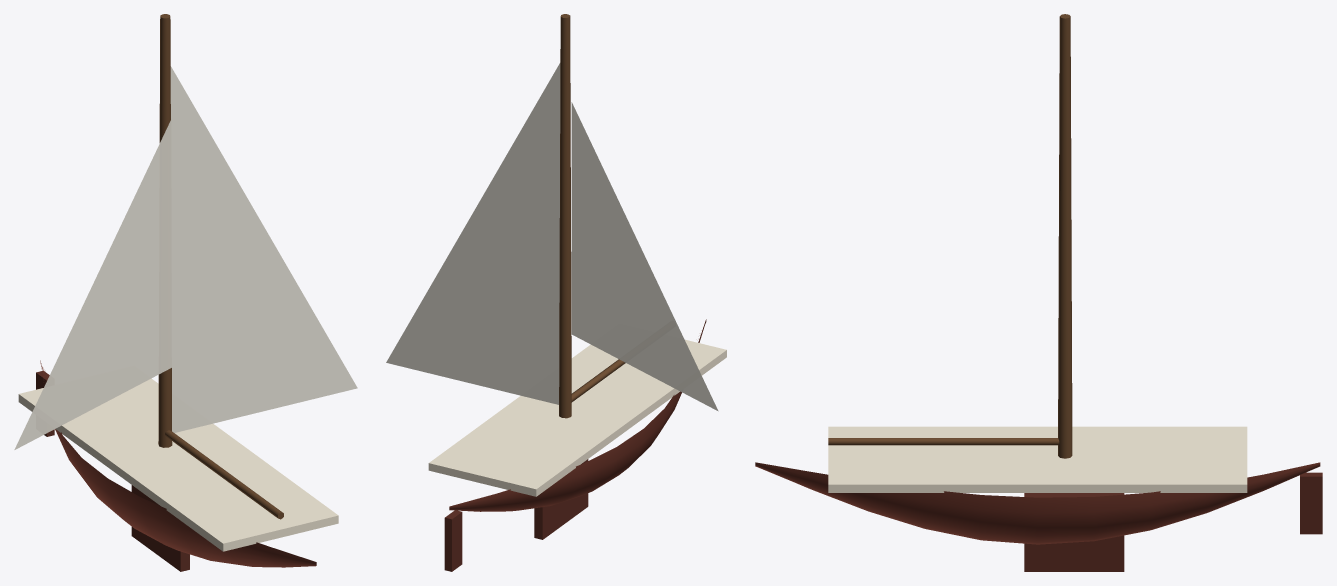
File: sailboat.glb
3 views of the same model, side by side, from view 1: azimuth 30°, elevation 25°; view 2: azimuth 150°, elevation 25°; view 3: azimuth 270°, elevation 25° (orthographic). The views are drawn at different scales.
Parts seen in each view (by area): view 1: mainSail, deck, jibSail, hull, mast, boom, keel; view 2: mainSail, jibSail, deck, hull, mast, keel, rudder, boom; view 3: deck, hull, mast, keel, boom, rudder.
Boxes of the visible parts, left/top/right/bottom form: mainSail: left=170, top=66, right=357, bottom=432; deck: left=18, top=378, right=338, bottom=551; jibSail: left=14, top=118, right=171, bottom=449; hull: left=40, top=360, right=316, bottom=567; mast: left=158, top=14, right=172, bottom=447; boom: left=165, top=430, right=283, bottom=519; keel: left=131, top=485, right=189, bottom=571; mainSail: left=386, top=63, right=560, bottom=404; jibSail: left=571, top=102, right=718, bottom=411; deck: left=428, top=339, right=726, bottom=496; hull: left=449, top=319, right=706, bottom=511; mast: left=559, top=14, right=571, bottom=418; keel: left=534, top=459, right=588, bottom=539; rudder: left=444, top=510, right=462, bottom=571; boom: left=571, top=359, right=625, bottom=402; deck: left=828, top=426, right=1247, bottom=492; hull: left=755, top=462, right=1320, bottom=544; mast: left=1058, top=14, right=1072, bottom=458; keel: left=1024, top=493, right=1124, bottom=571; boom: left=828, top=438, right=1059, bottom=445; rudder: left=1300, top=472, right=1322, bottom=534.
Size of the model in its own units: 4.55 by 6.7 by 6.22.
